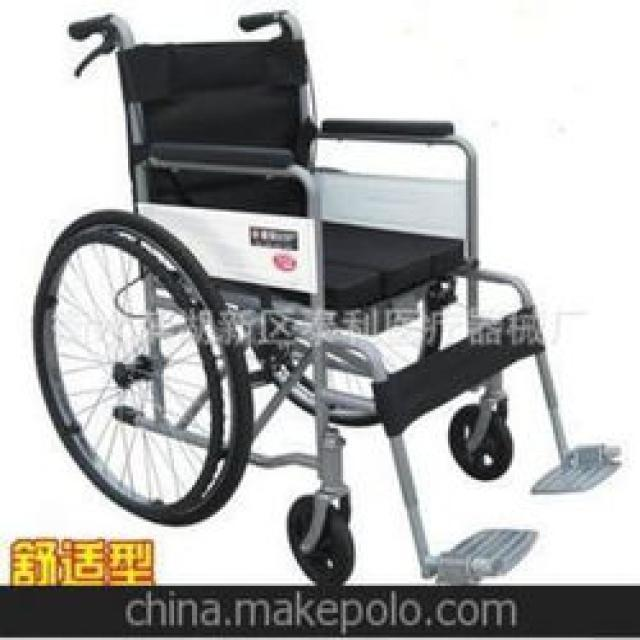wheelchairs: (33, 8, 624, 585)
